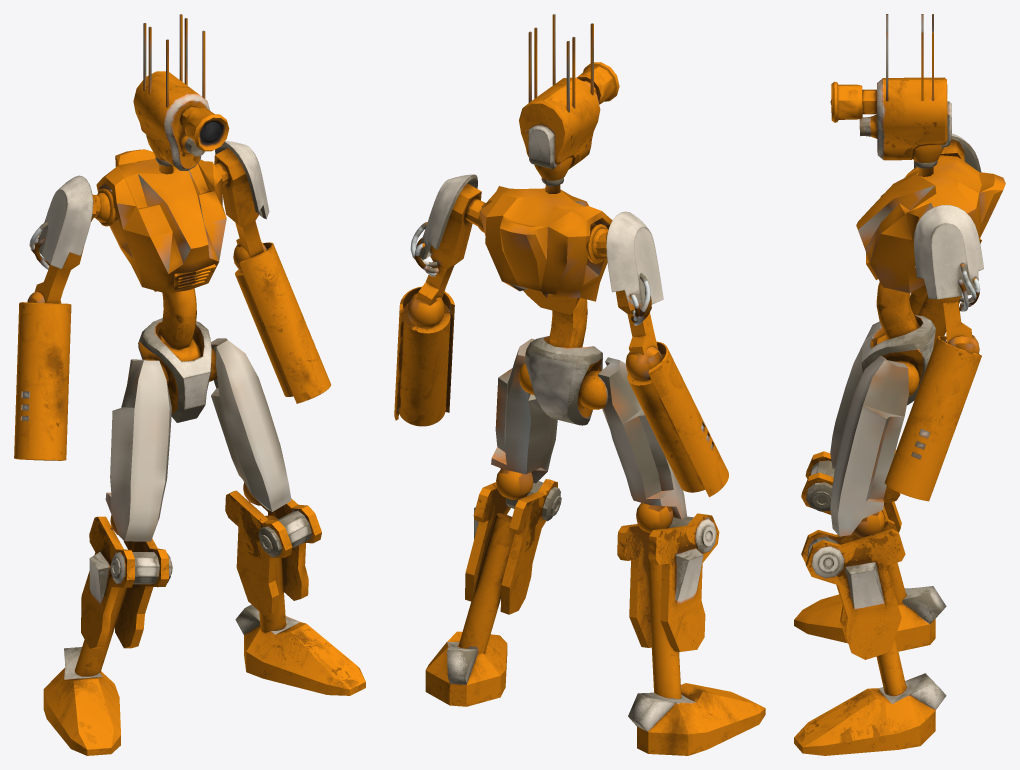
Rendered from Robot01.fbx.
The picture shows the model from 3 angles, left to right: view 1: azimuth 30°, elevation 25°; view 2: azimuth 150°, elevation 25°; view 3: azimuth 270°, elevation 25°; orthographic projection. The views are drawn at different scales.
Parts seen in each view (by area): view 1: Robot01; view 2: Robot01; view 3: Robot01.
Boxes of the visible parts, <box> form: Robot01: <box>14,14,365,755</box>; Robot01: <box>394,14,765,755</box>; Robot01: <box>794,14,1005,755</box>.
Bounding box in the file's own units: 197 × 396 × 115.
